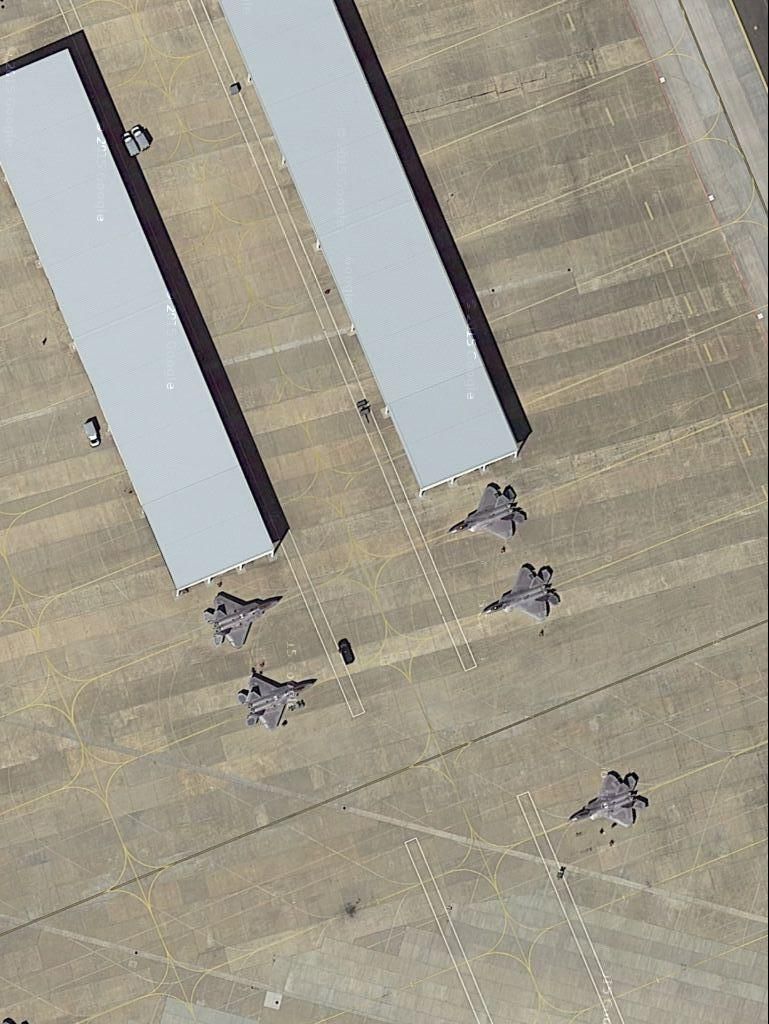F-22: (445, 479, 530, 549), (568, 767, 652, 835), (478, 559, 563, 626), (201, 586, 287, 652), (236, 667, 315, 734)
